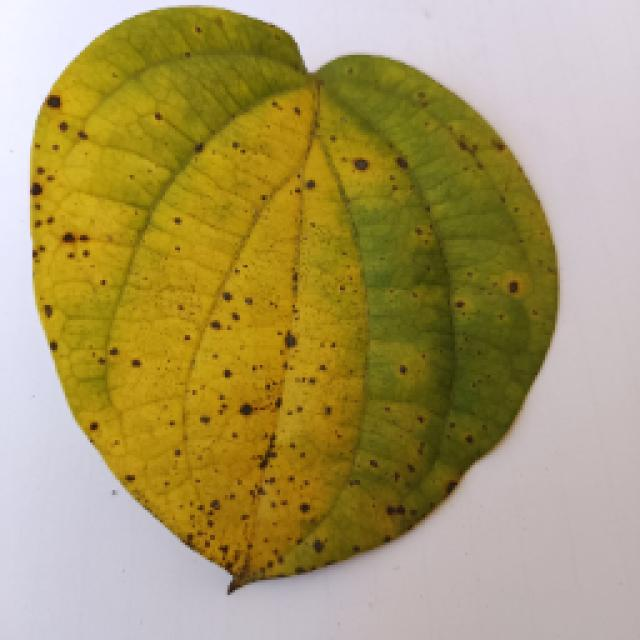slow-decline: (13, 27, 575, 605)
